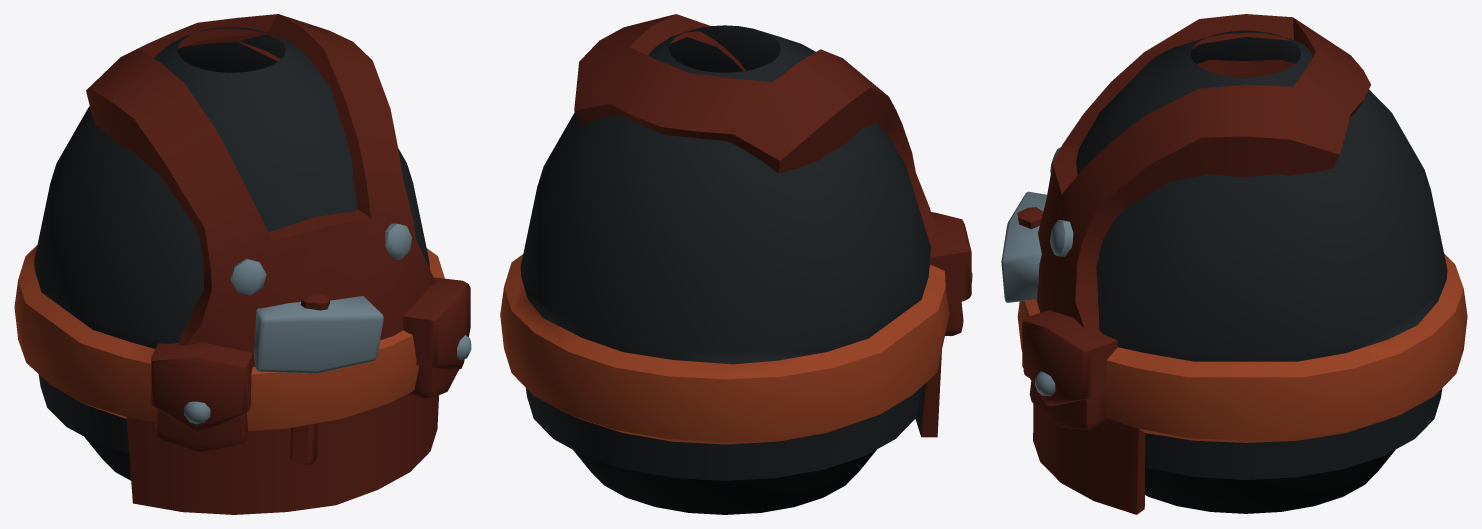
File: character_blacksmithBody.obj
3 views of the same model, side by side, from view 1: azimuth 30°, elevation 25°; view 2: azimuth 150°, elevation 25°; view 3: azimuth 270°, elevation 25° (orthographic). The views are drawn at different scales.
Visible parts, largest first — view 1: character_blacksmithBody_Cube.023; view 2: character_blacksmithBody_Cube.023; view 3: character_blacksmithBody_Cube.023.
Part boxes in pixels (box(x1,y1,x2,y2)): character_blacksmithBody_Cube.023: box(14, 14, 471, 514); character_blacksmithBody_Cube.023: box(500, 14, 972, 514); character_blacksmithBody_Cube.023: box(1001, 14, 1467, 514).
Bounding box in the file's own units: 0.7012 × 0.7338 × 0.7629.
